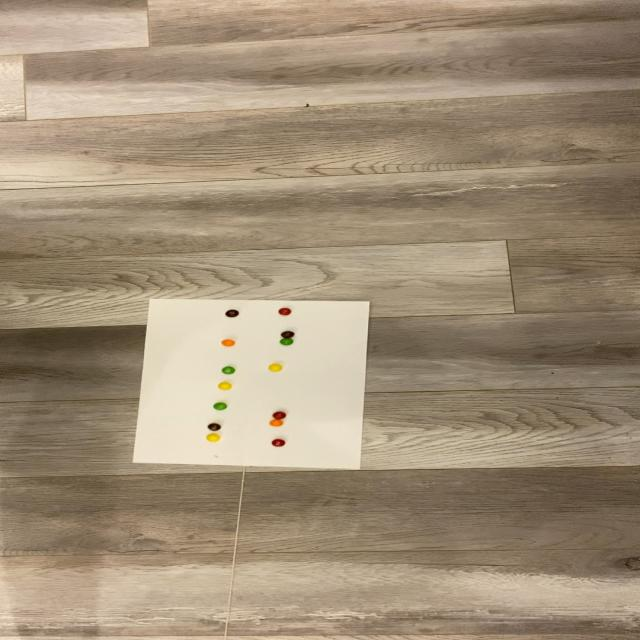smartie: (271, 410, 286, 419), (212, 402, 227, 411), (207, 422, 221, 431), (267, 364, 281, 373), (219, 382, 233, 391), (224, 310, 239, 318), (278, 338, 293, 346), (206, 434, 221, 442), (280, 331, 294, 339), (221, 339, 235, 347), (278, 307, 292, 315), (271, 438, 285, 446), (220, 367, 234, 375), (269, 419, 284, 426)
